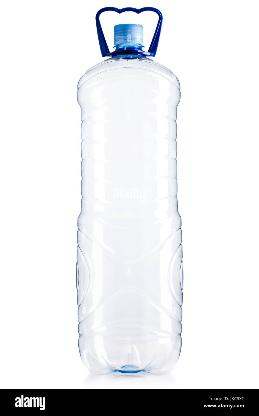Plastic Bottle: (76, 6, 184, 376)
